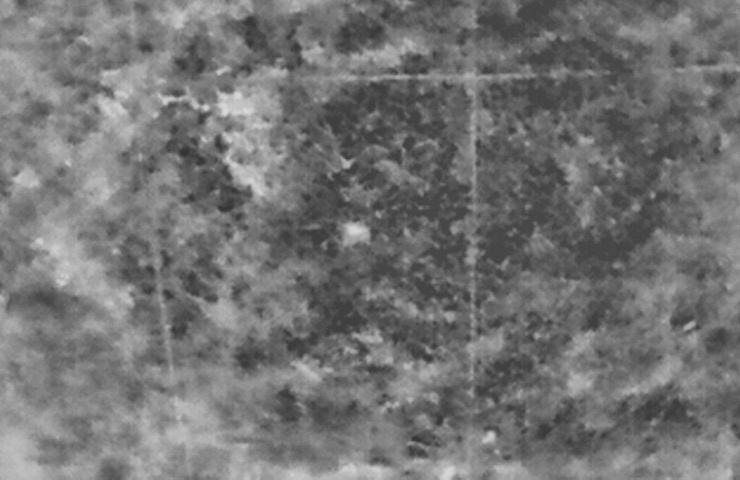landmines: (341, 218, 379, 252)
